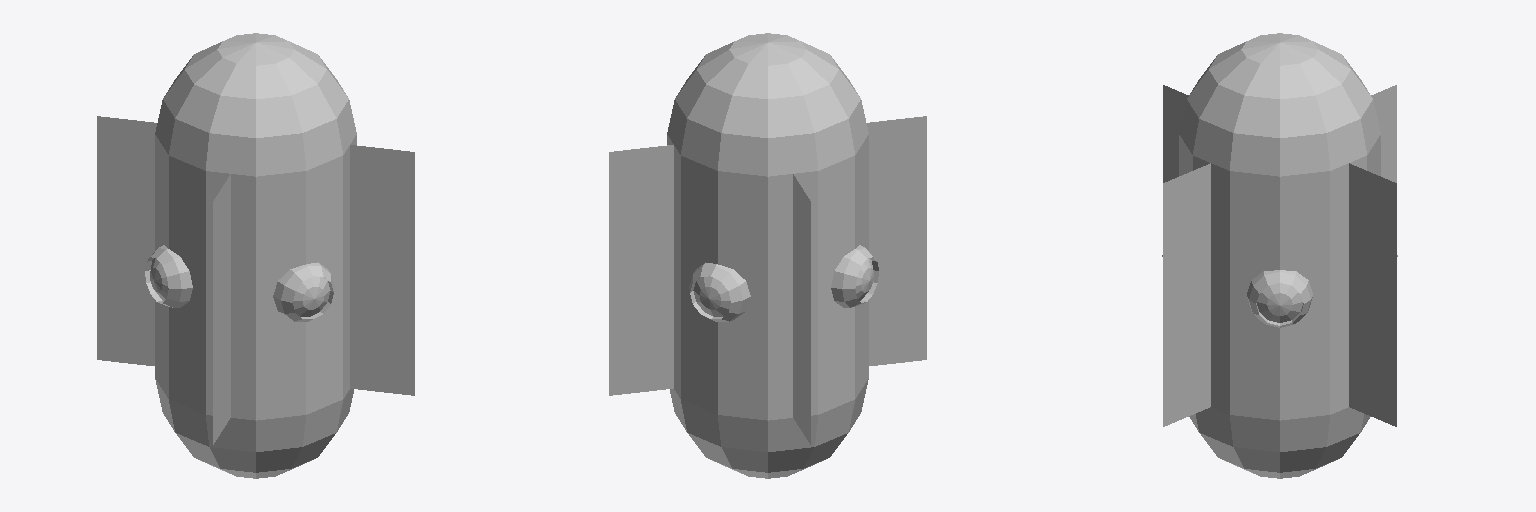
The model's file is bot_prime_body.obj.
The picture shows the model from 3 angles: view 1: azimuth 30°, elevation 25°; view 2: azimuth 150°, elevation 25°; view 3: azimuth 270°, elevation 25°; orthographic projection.
Parts seen in each view (by area): view 1: Cylinder; view 2: Cylinder; view 3: Cylinder.
Part boxes in pixels (left/top/right/bottom): Cylinder: left=97, top=33, right=414, bottom=478; Cylinder: left=609, top=33, right=926, bottom=478; Cylinder: left=1162, top=33, right=1397, bottom=478.
Bounding box in the file's own units: 3.5 × 7 × 3.5.